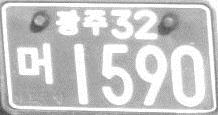0: (168, 43, 207, 107)
1: (71, 41, 91, 107)
2: (133, 8, 160, 40)
3: (108, 7, 134, 40)
5: (99, 41, 135, 106)
9: (134, 42, 169, 106)
광주_O: (54, 8, 108, 36)
머: (15, 42, 56, 86)
